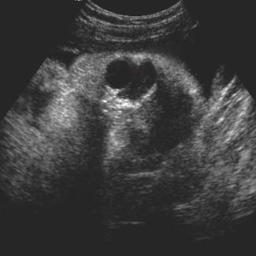abnormal: (78, 47, 216, 183)
